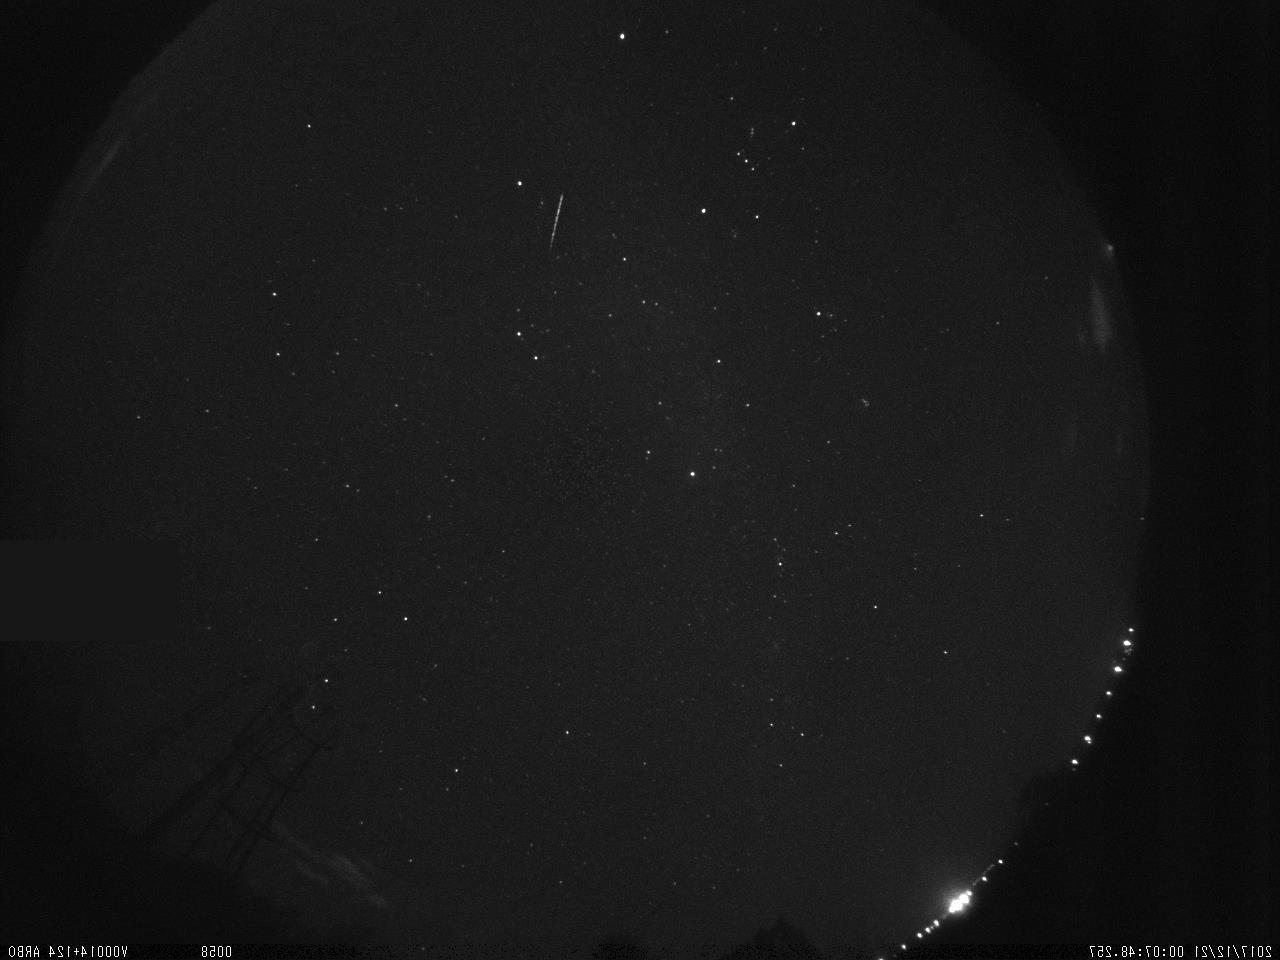meteor: (535, 190, 574, 253)
